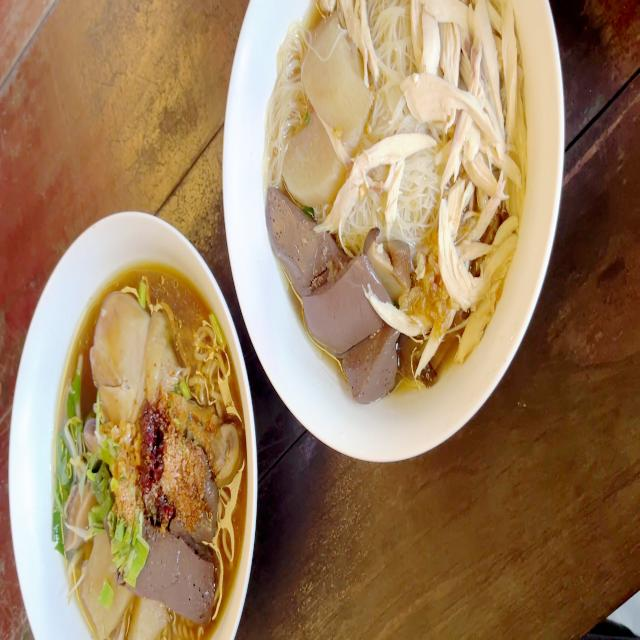boiled_chicken_blood_jelly: (308, 252, 372, 356), (268, 188, 331, 286), (144, 538, 210, 620), (345, 331, 395, 404)
chicken_drumstick: (93, 293, 238, 480)
chicken_shredded: (407, 0, 516, 320), (319, 137, 430, 225), (337, 0, 379, 86)
daikon_radish: (301, 29, 370, 140), (282, 114, 336, 192), (82, 540, 127, 632)
noodle: (256, 0, 534, 391), (54, 273, 250, 640)
